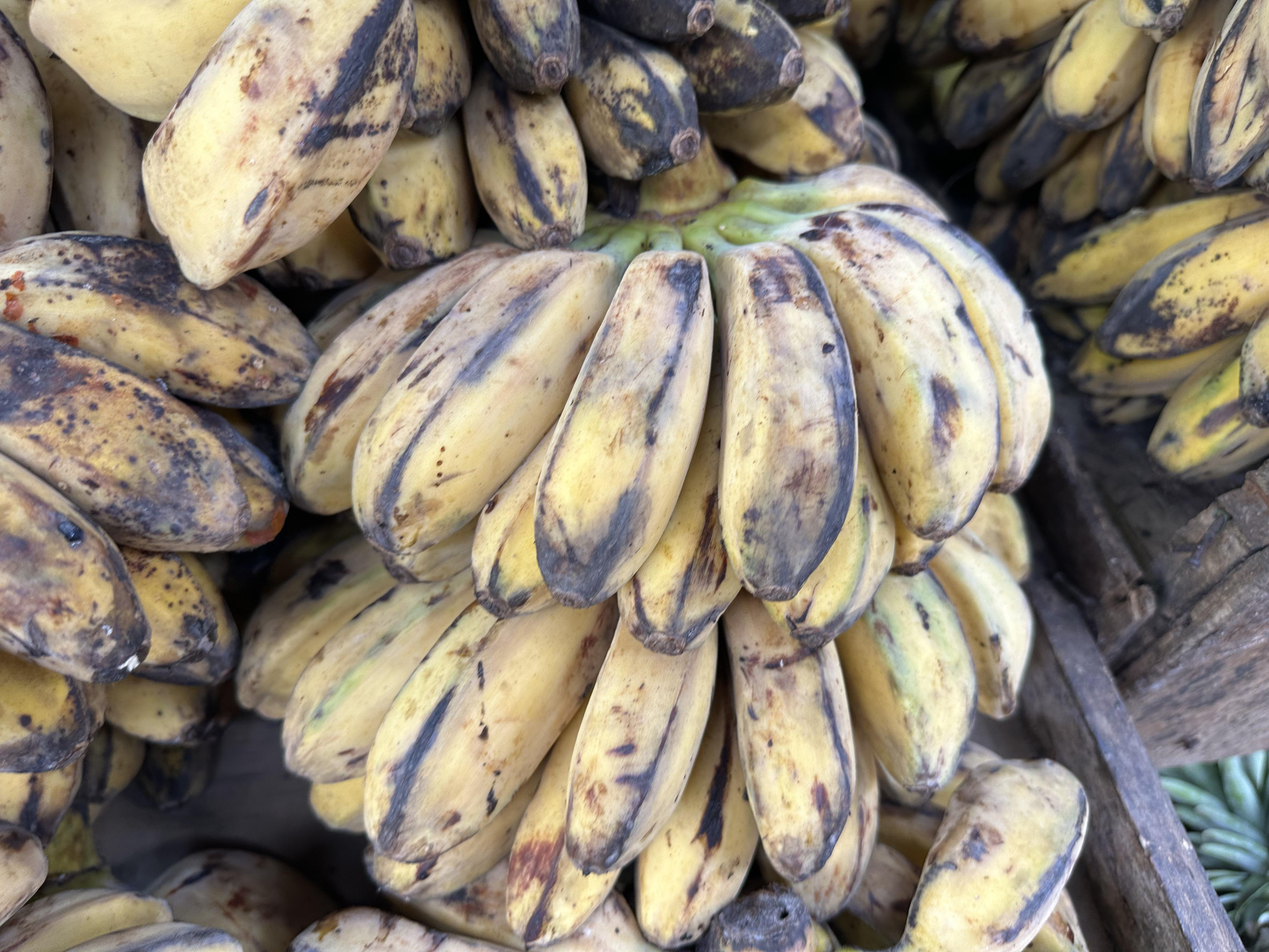ripe: (285, 171, 1053, 655), (238, 532, 1031, 947), (0, 233, 316, 915), (258, 0, 898, 288), (24, 0, 475, 293), (898, 0, 1269, 227), (1033, 191, 1269, 480)
